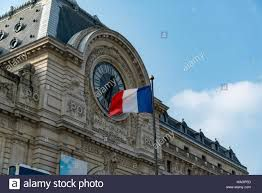French Flag: (113, 87, 153, 113)
